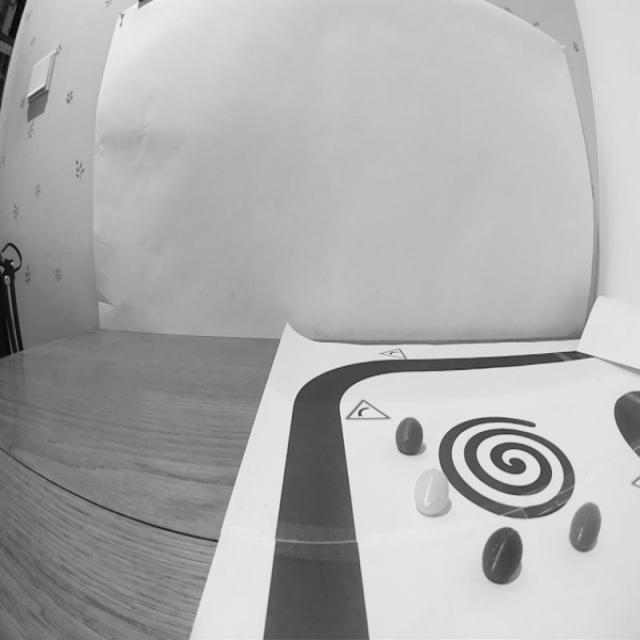ball: (476, 520, 526, 598), (410, 467, 454, 530), (391, 413, 425, 461)
cube: (564, 499, 610, 555)
lineStraight: (254, 551, 378, 640)
nest: (437, 409, 582, 526)
